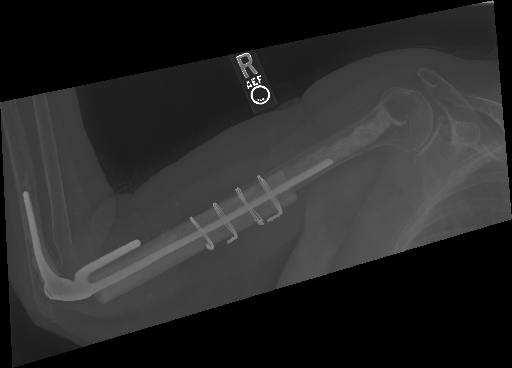implant: (181, 157, 340, 262), (23, 185, 158, 306)
